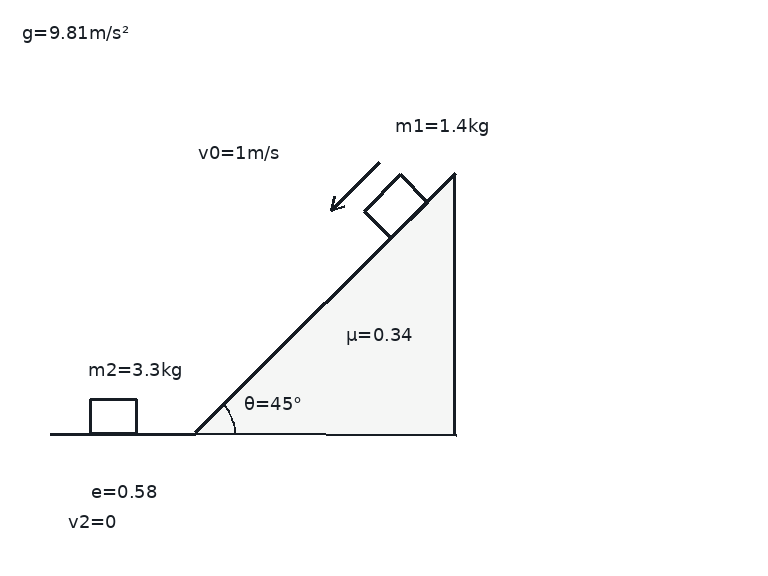block: (362, 173, 428, 240), (88, 397, 138, 435)
ramp: (193, 171, 457, 435)
